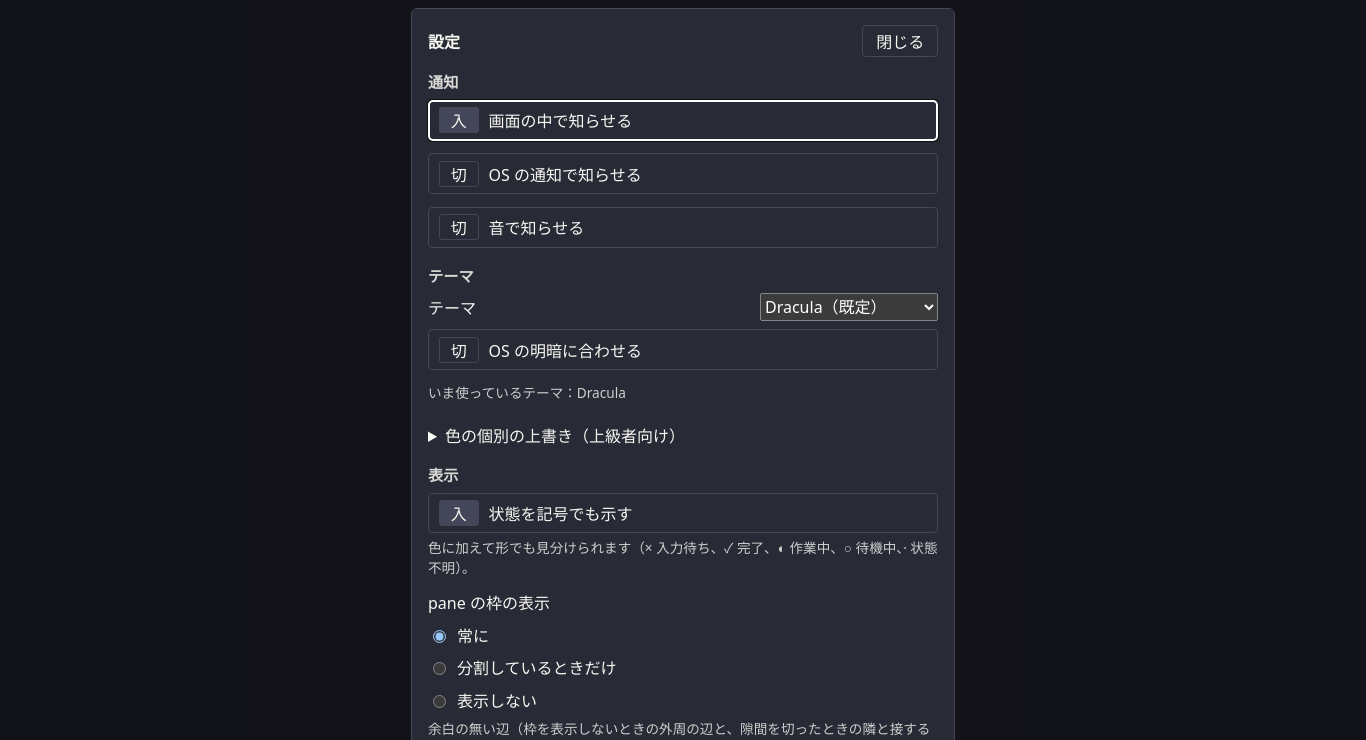
Test case: SettingsDialog — テーマの節 › 明るいとき・暗いときを選ぶと保存し、「既定」を選ぶと null に戻る。自動の切替中に 1 つのテーマを選ぶと切れる（AC6・AC7）
This screenshot has width=1366, height=740.
Click the switch labelled "切 OS の明暗に合わせる": click(459, 350) [428, 329, 938, 370]
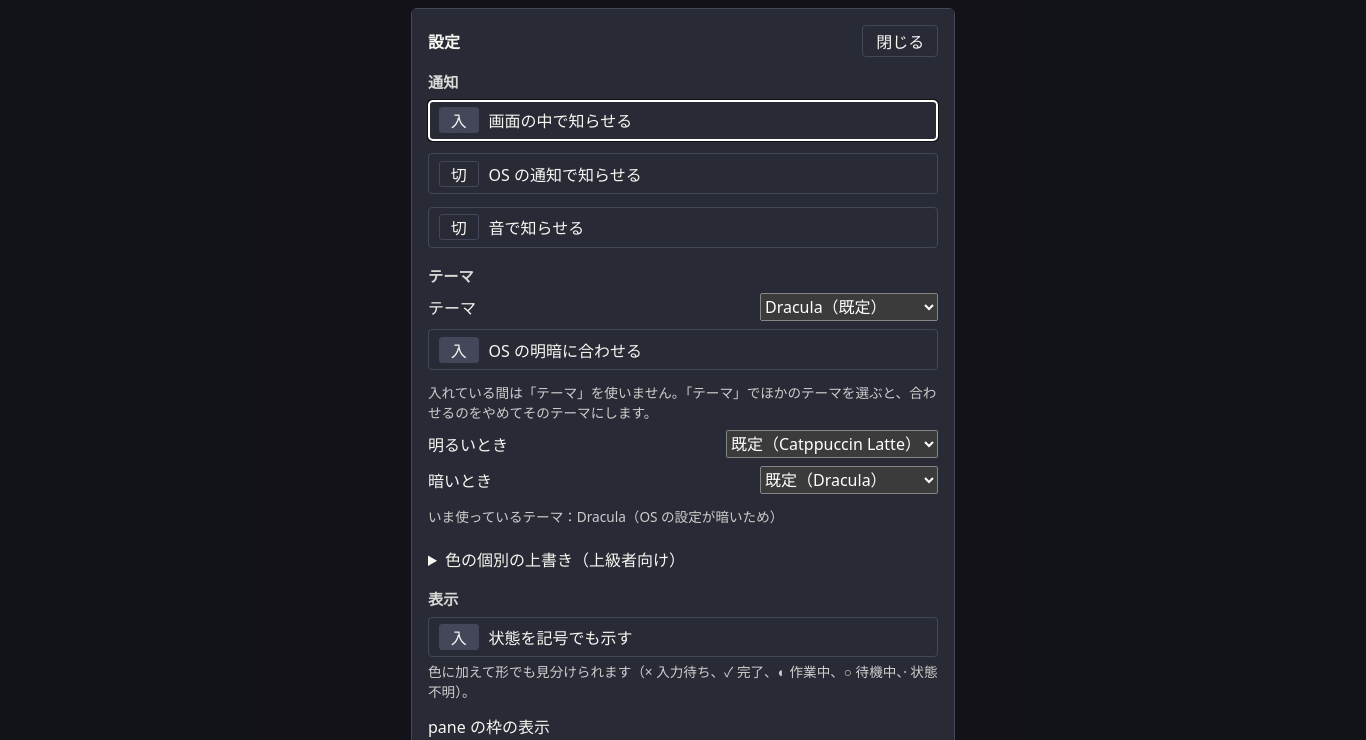
Select "One Light" in the dropdown labelled "明るいとき": (832, 444) [726, 430, 938, 458]
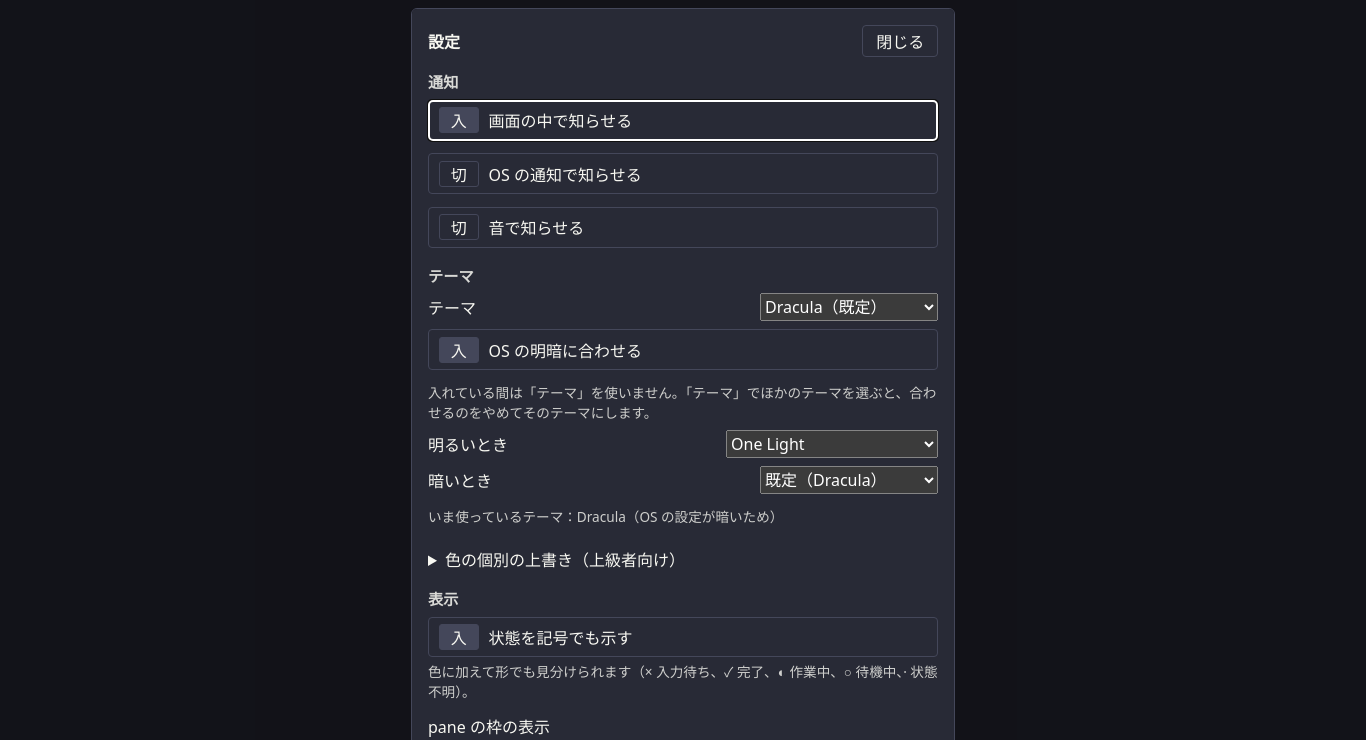
Select "Vesper" in the dropdown labelled "暗いとき": (849, 480) [760, 466, 938, 494]
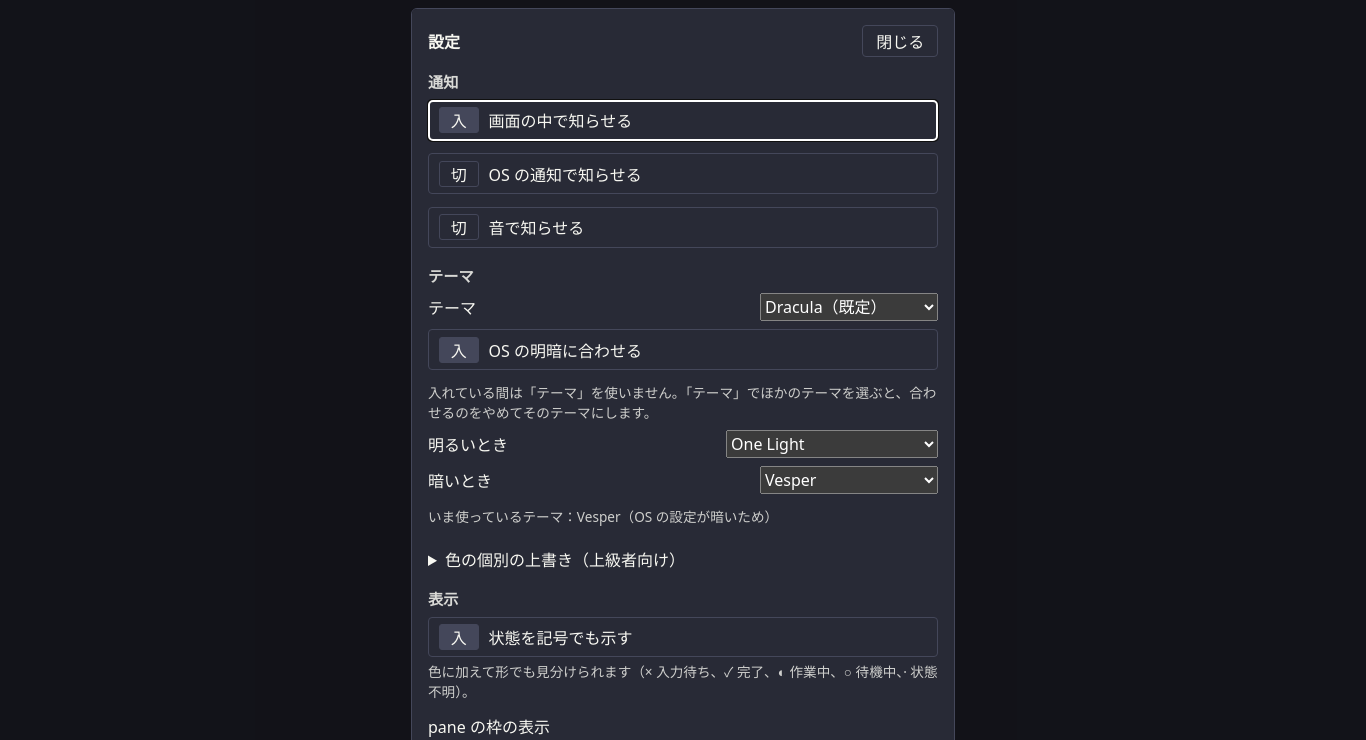
Select "既定（Catppuccin Latte）" in the dropdown labelled "明るいとき": (832, 444) [726, 430, 938, 458]
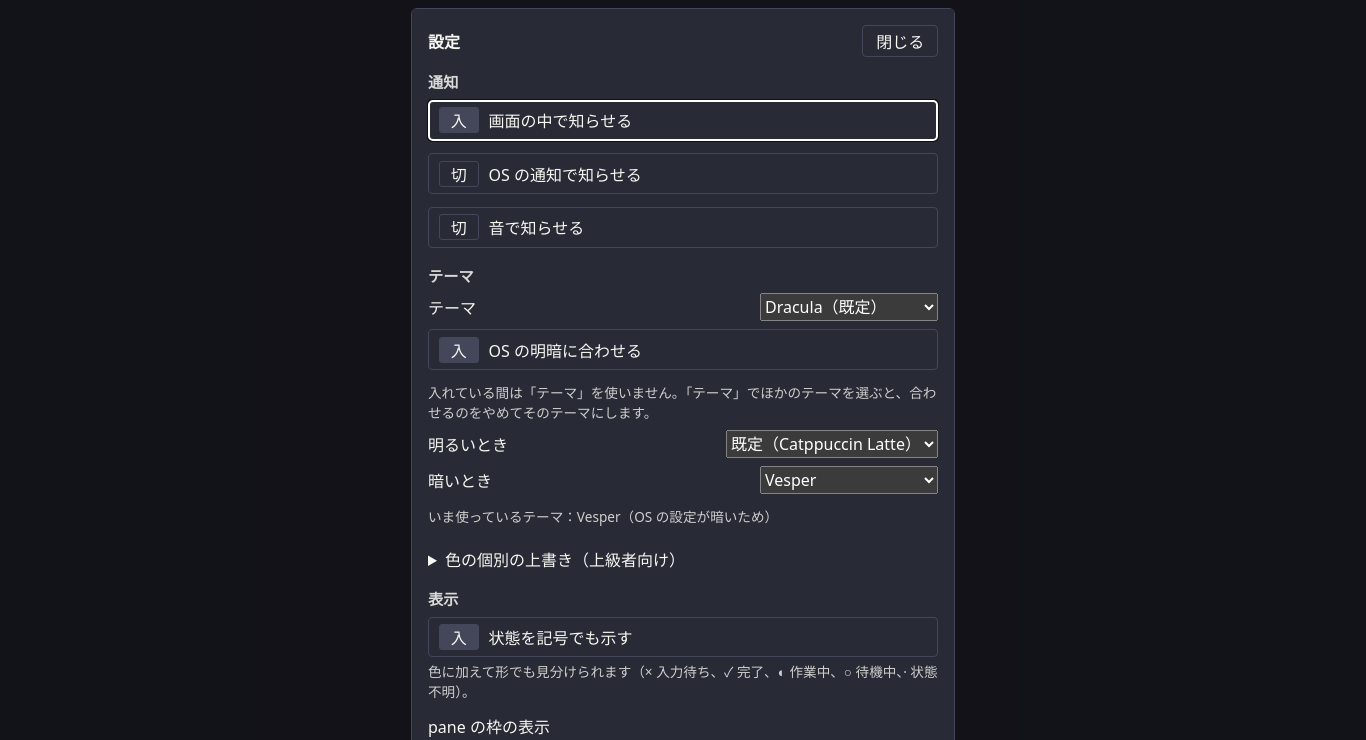
Select "Nord" in the dropdown labelled "テーマ": (849, 307) [760, 293, 938, 321]
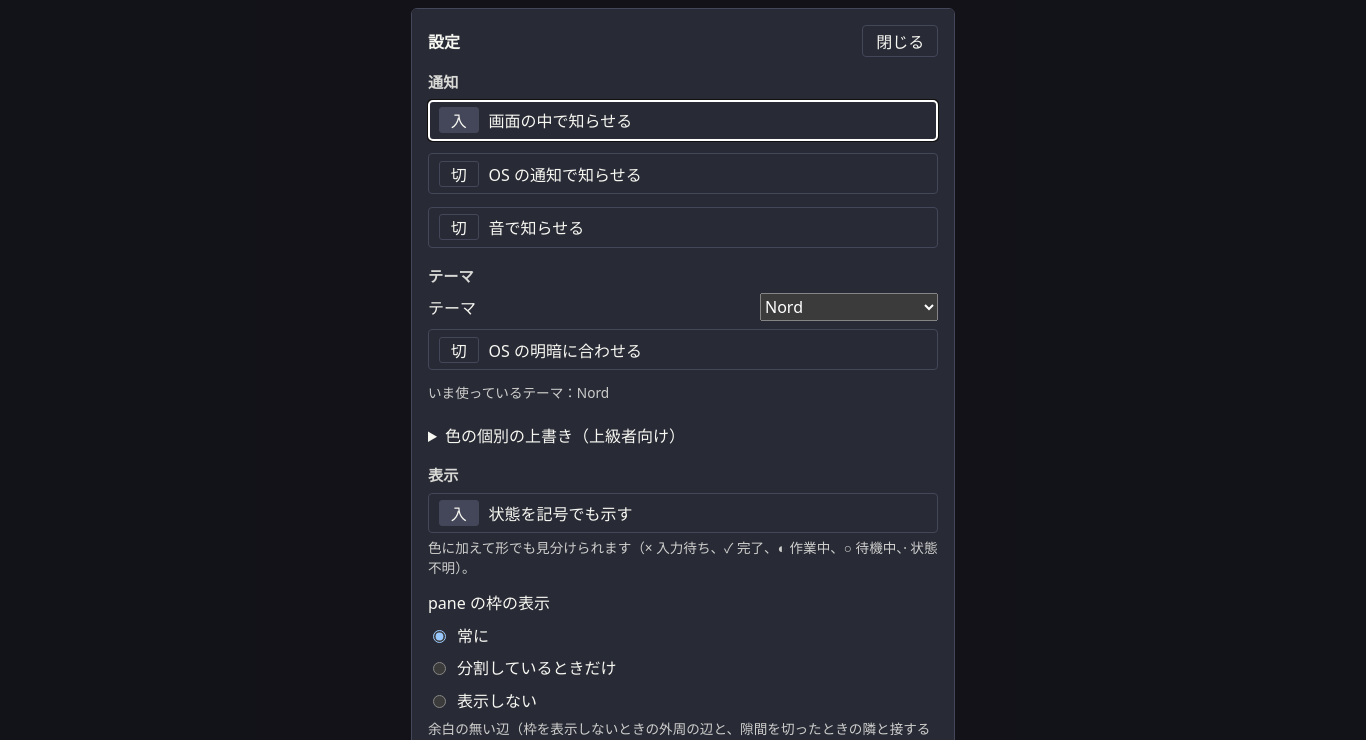
Expected: the number of dropdowns is 1, [760, 293, 938, 321]
